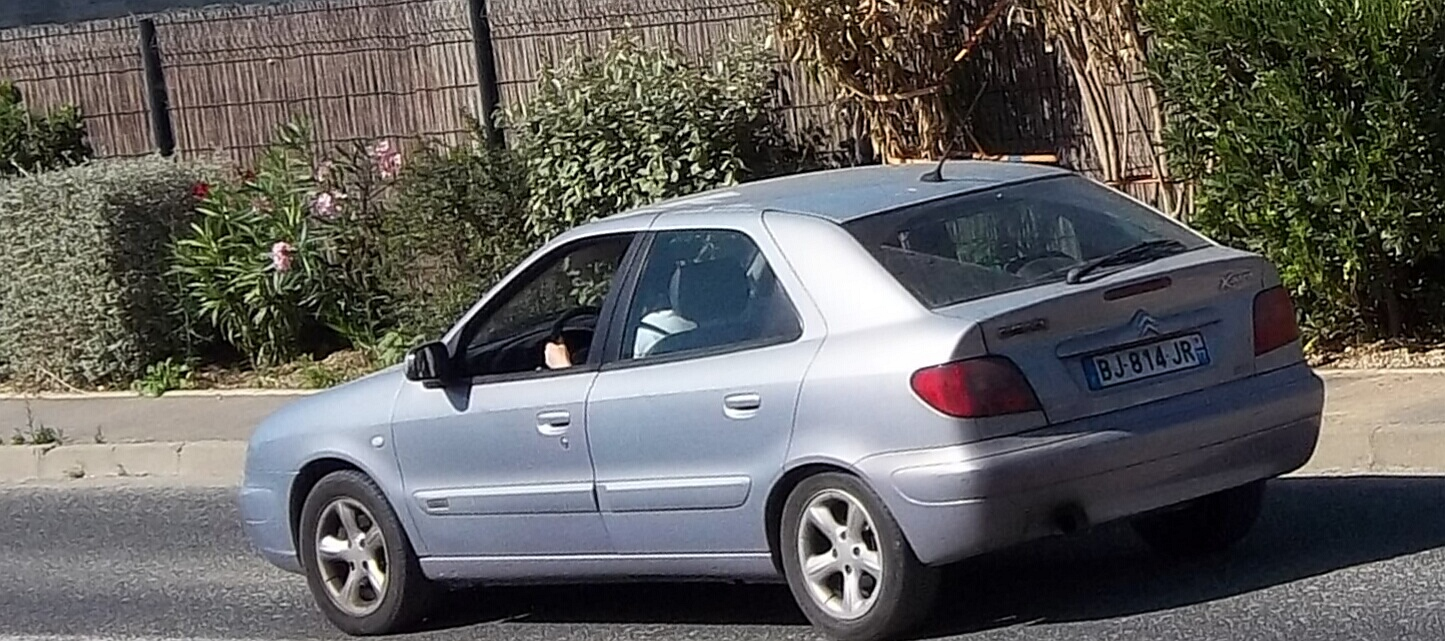licence plate: (1082, 328, 1213, 393)
